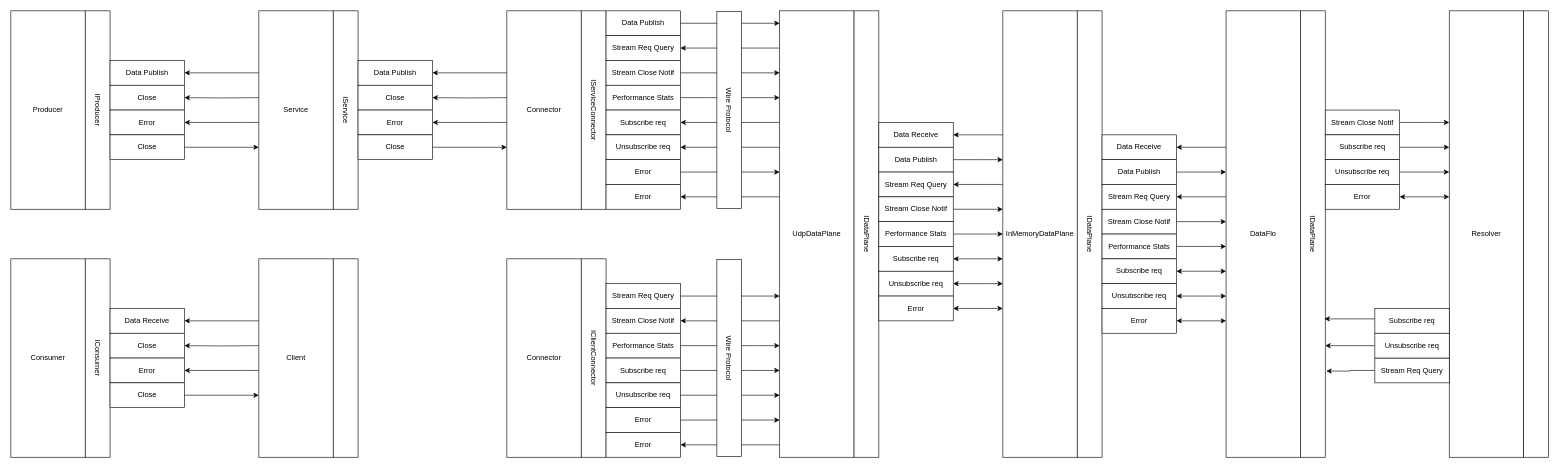
Some shapes in this 1559 by 468 pixel diagram are drawn without their labels. The shapes that lost their labels are listed below. From the top down, each one's centre as x and y in pixels, then its label:
point (1535, 233): IResolver
point (345, 357): IClient
